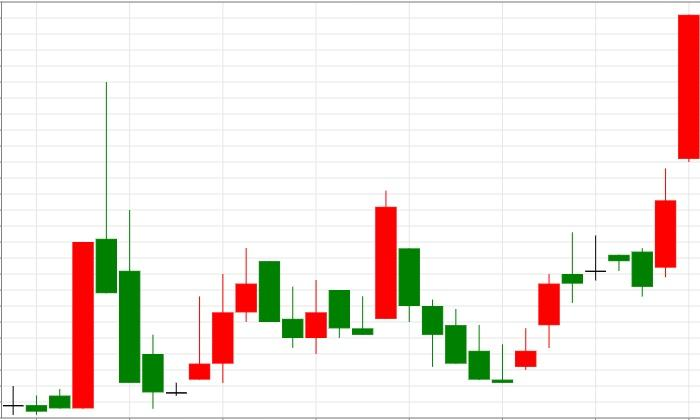shooting_star_fall: (3, 82, 117, 414)
